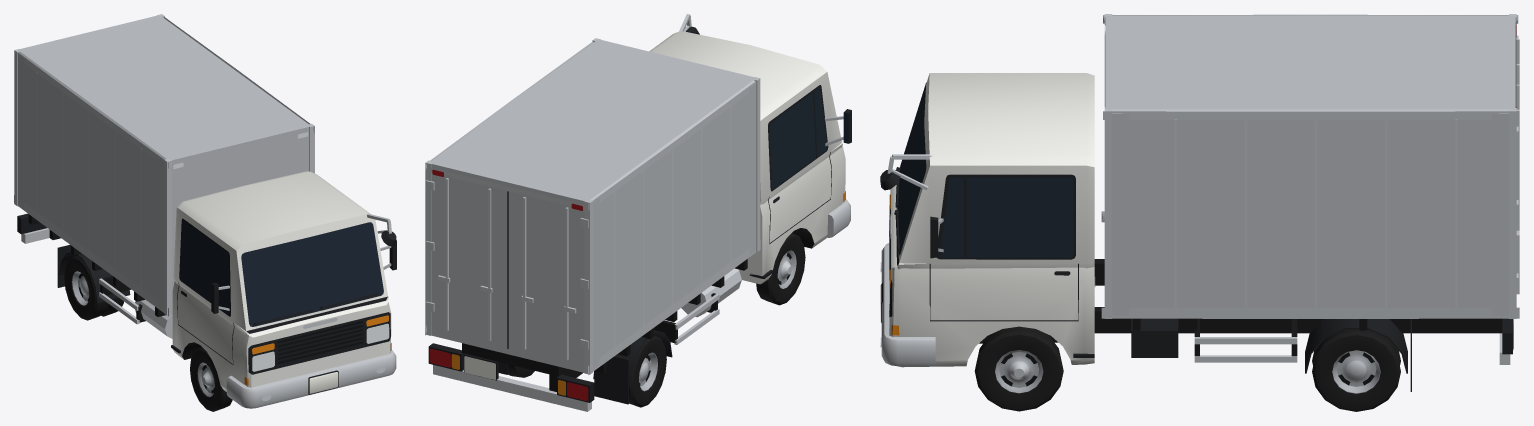
The model's file is traffic_box_truck.glb.
The picture shows the model from 3 angles, left to right: view 1: azimuth 30°, elevation 25°; view 2: azimuth 150°, elevation 25°; view 3: azimuth 270°, elevation 25°; orthographic projection. The views are drawn at different scales.
Parts seen in each view (by area): view 1: body, wheel_RR, wheel_FR; view 2: body, wheel_FR, wheel_RR; view 3: body, wheel_FL, wheel_RL.
Part boxes in pixels (x1,y1,x2,y2): body: (14,14,396,408); wheel_RR: (64,256,123,320); wheel_FR: (190,347,232,411); body: (425,14,851,411); wheel_FR: (756,233,805,305); wheel_RR: (629,335,666,407); body: (880,14,1519,391); wheel_FL: (974,326,1063,411); wheel_RL: (1312,329,1400,411).
Bounding box in the file's own units: 2.11 × 2.5 × 4.74.
